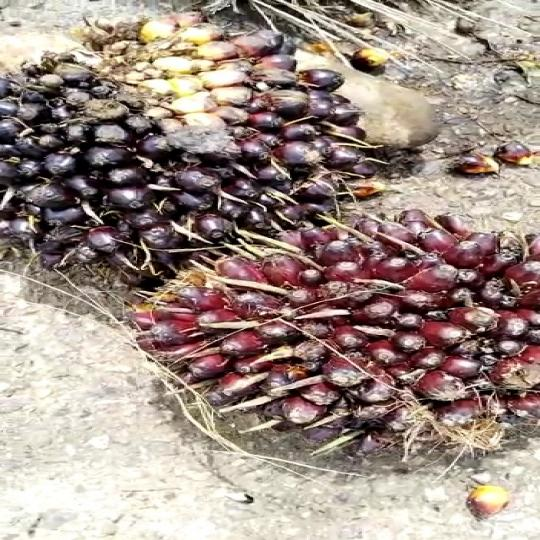mentah: (0, 2, 367, 294), (164, 217, 535, 444)
